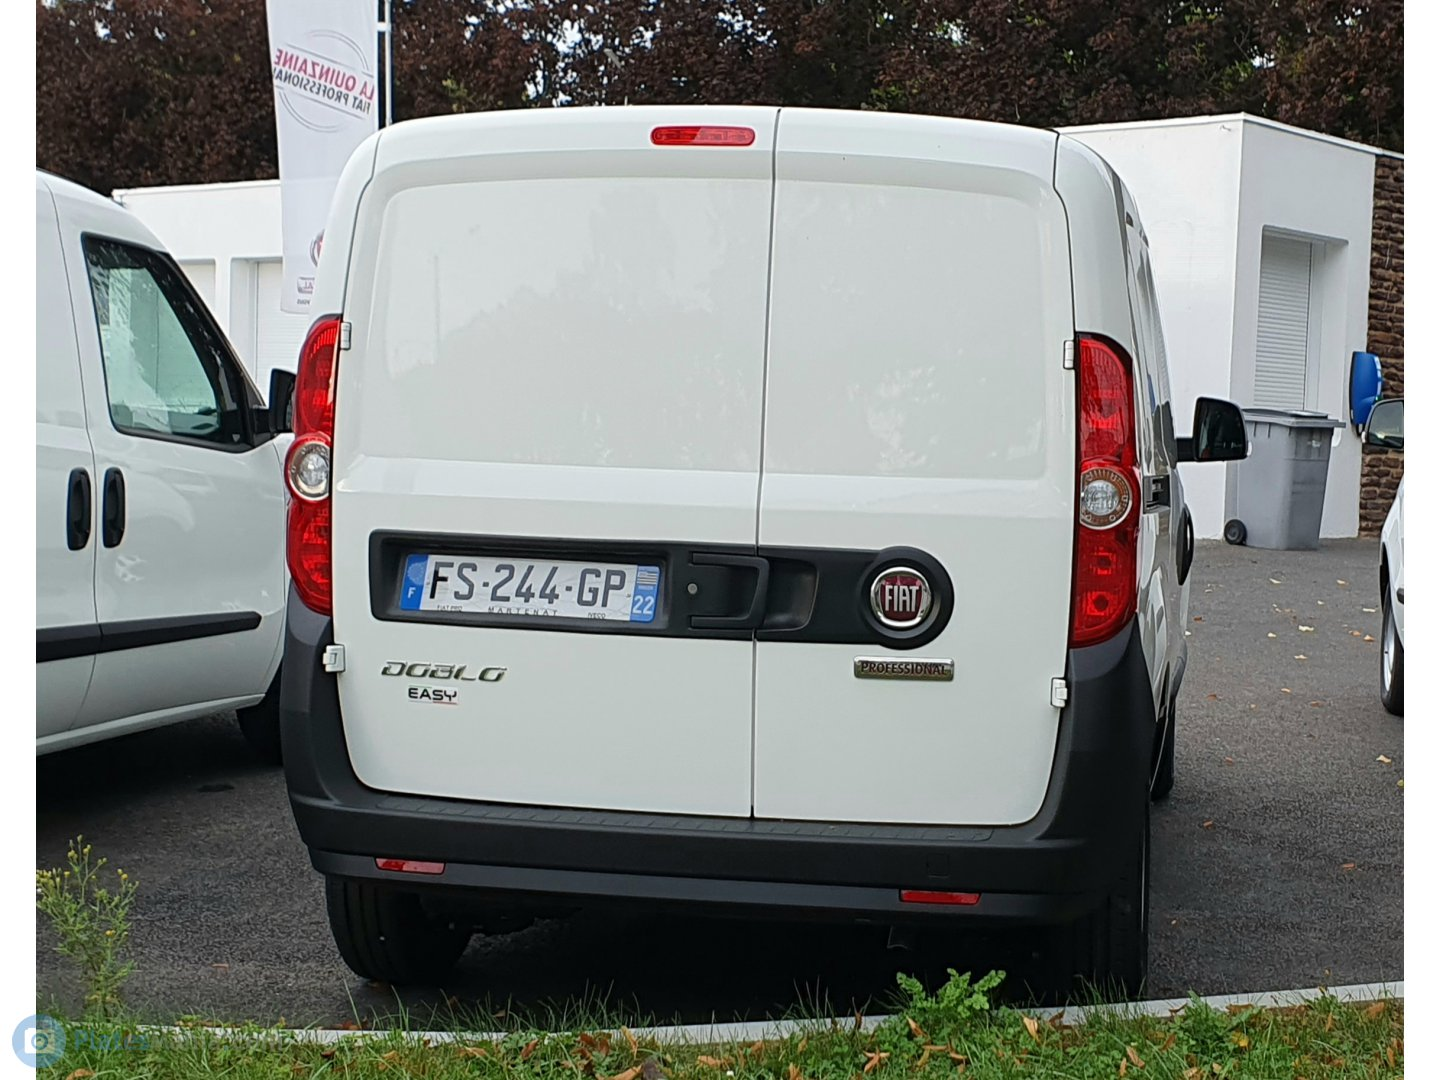licence plate: (396, 545, 664, 628)
